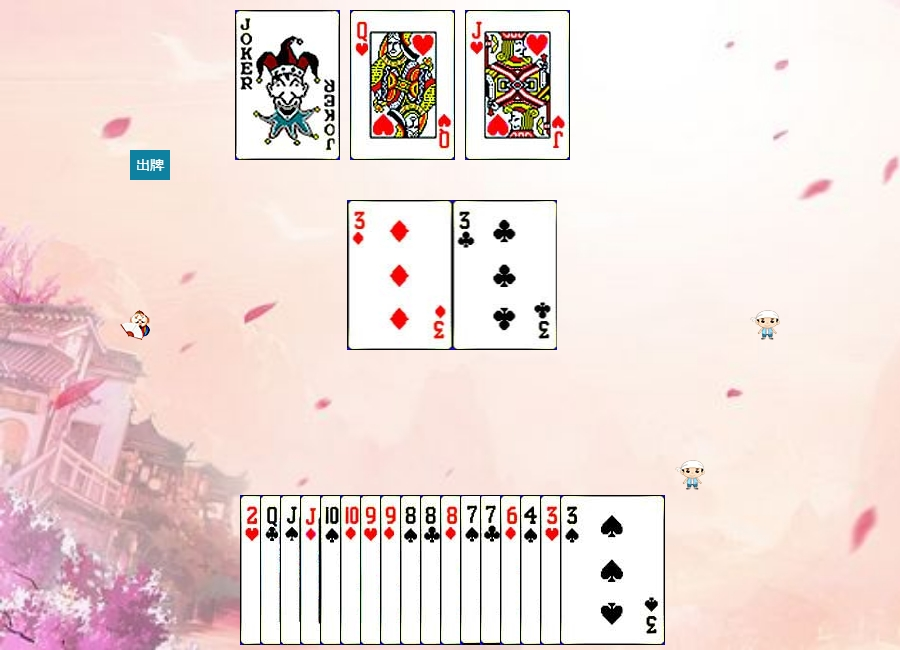10~1: (340, 495, 445, 645)
10~4: (320, 495, 425, 645)
11~1: (300, 495, 405, 645)
11~3: (465, 10, 570, 160)
11~4: (280, 495, 385, 645)
12~2: (260, 495, 365, 645)
12~3: (350, 10, 455, 160)
15~3: (240, 495, 345, 645)
17~3: (235, 10, 340, 160)
3~1: (348, 200, 453, 350)
3~2: (453, 200, 558, 350)
3~3: (540, 495, 645, 645)
3~4: (560, 495, 665, 645)
4~4: (520, 495, 625, 645)
6~1: (500, 495, 605, 645)
7~2: (480, 495, 585, 645)
7~4: (460, 495, 565, 645)
8~1: (440, 495, 545, 645)
8~2: (420, 495, 525, 645)
8~4: (400, 495, 505, 645)
9~1: (380, 495, 485, 645)
9~3: (360, 495, 465, 645)
